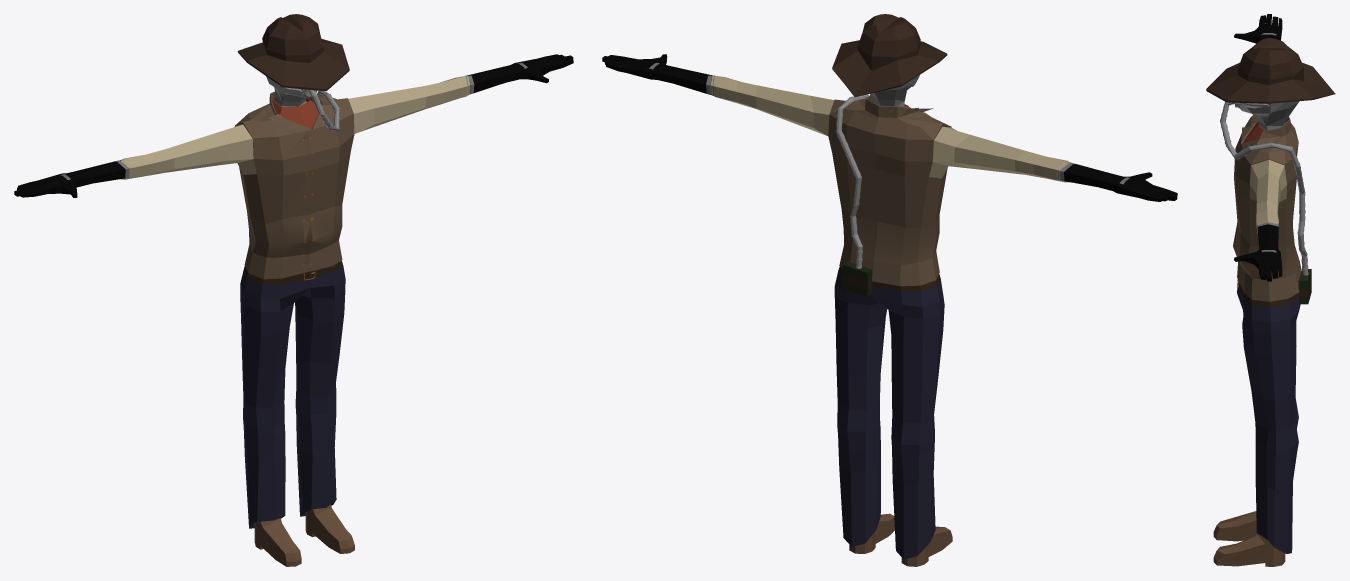
Rendered from GraniteModel.fbx.
3 renders of one model, left to right at view 1: azimuth 30°, elevation 25°; view 2: azimuth 150°, elevation 25°; view 3: azimuth 270°, elevation 25°, orthographic. The views are drawn at different scales.
Parts seen in each view (by area): view 1: Model; view 2: Model; view 3: Model.
Boxes of the visible parts, x1=… form: Model: x1=14, y1=14, x2=573, y2=566; Model: x1=602, y1=14, x2=1177, y2=566; Model: x1=1206, y1=14, x2=1335, y2=566.
Bounding box in the file's own units: 194 × 173 × 40.15.
